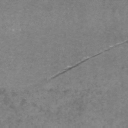finishing roll printing: (50, 40, 128, 80)
